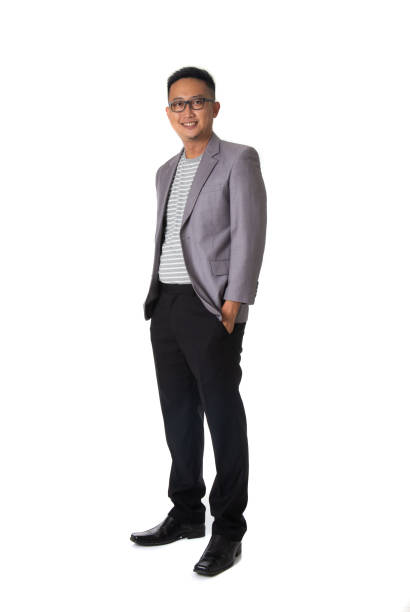Male: (119, 61, 284, 577)
